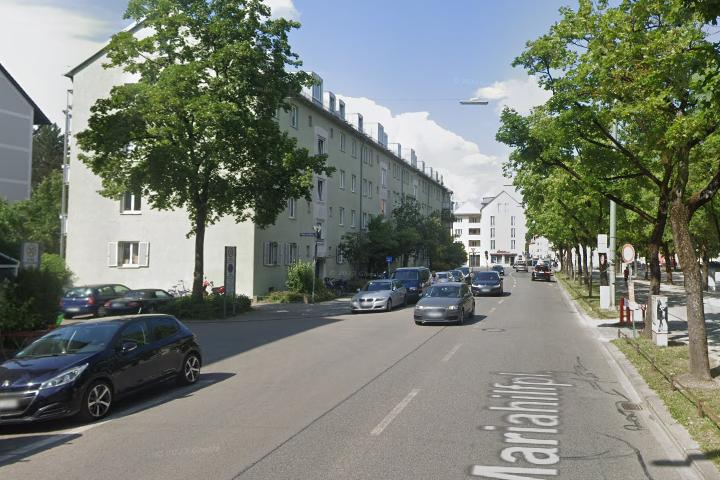traffic_sign: (620, 243, 636, 264)
vehicle: (1, 302, 210, 433), (410, 276, 478, 330), (55, 281, 140, 320), (101, 285, 183, 319), (348, 275, 409, 318), (470, 269, 504, 299), (528, 262, 554, 284)
